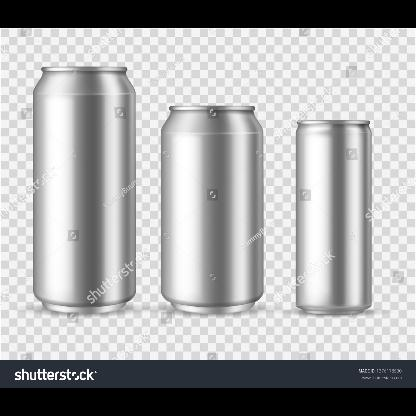Tin_Can: (30, 60, 138, 316), (156, 103, 268, 317), (288, 118, 380, 320)
